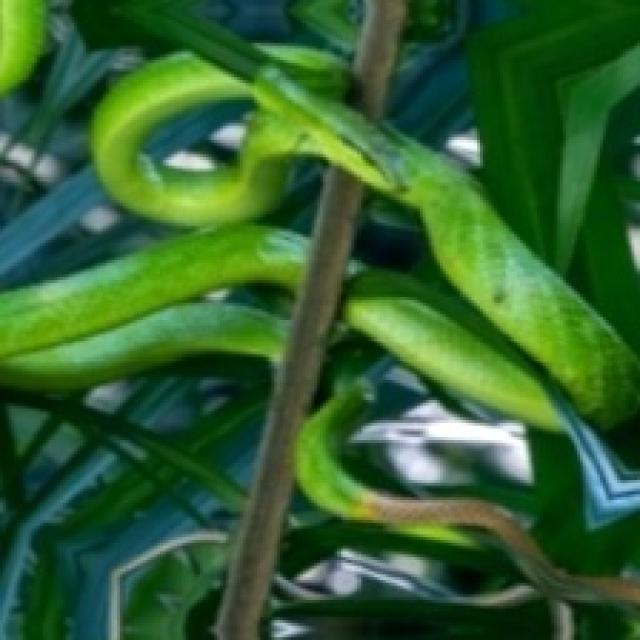red-tailed green ratsnake: (0, 49, 640, 432), (296, 379, 640, 607)
